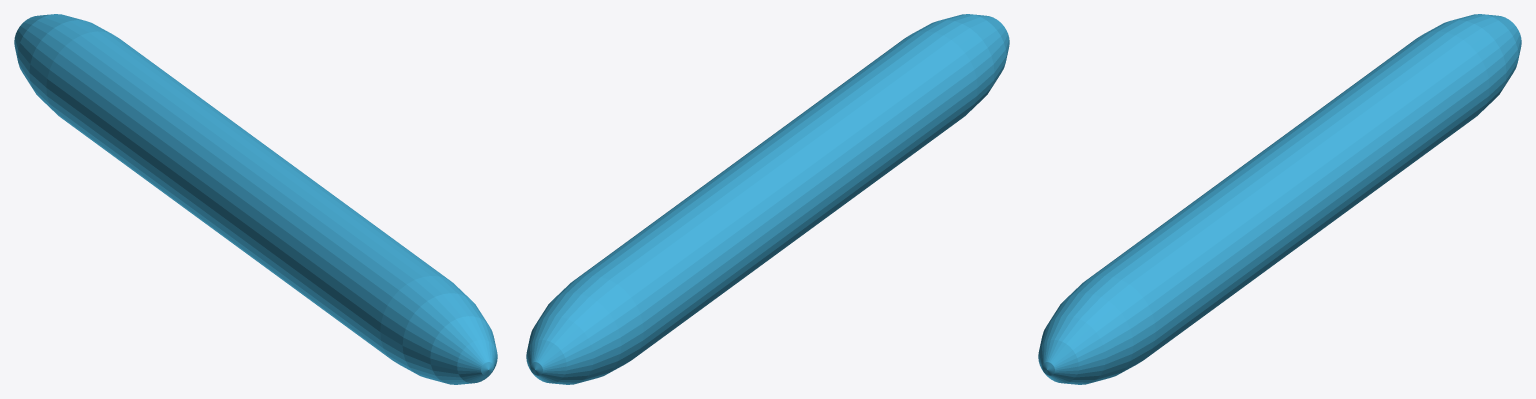
Rendered from Stun Lazer.fbx.
3 renders of one model, left to right at view 1: azimuth 30°, elevation 25°; view 2: azimuth 150°, elevation 25°; view 3: azimuth 330°, elevation 25°, orthographic.
Visible parts, largest first — view 1: Stun Lazer; view 2: Stun Lazer; view 3: Stun Lazer.
Boxes of the visible parts, <box> form: Stun Lazer: <box>14,14,497,384</box>; Stun Lazer: <box>526,14,1009,384</box>; Stun Lazer: <box>1038,14,1521,384</box>.
Size of the model in its own units: 25.68 by 25.68 by 243.
1 material, 1 textured.
